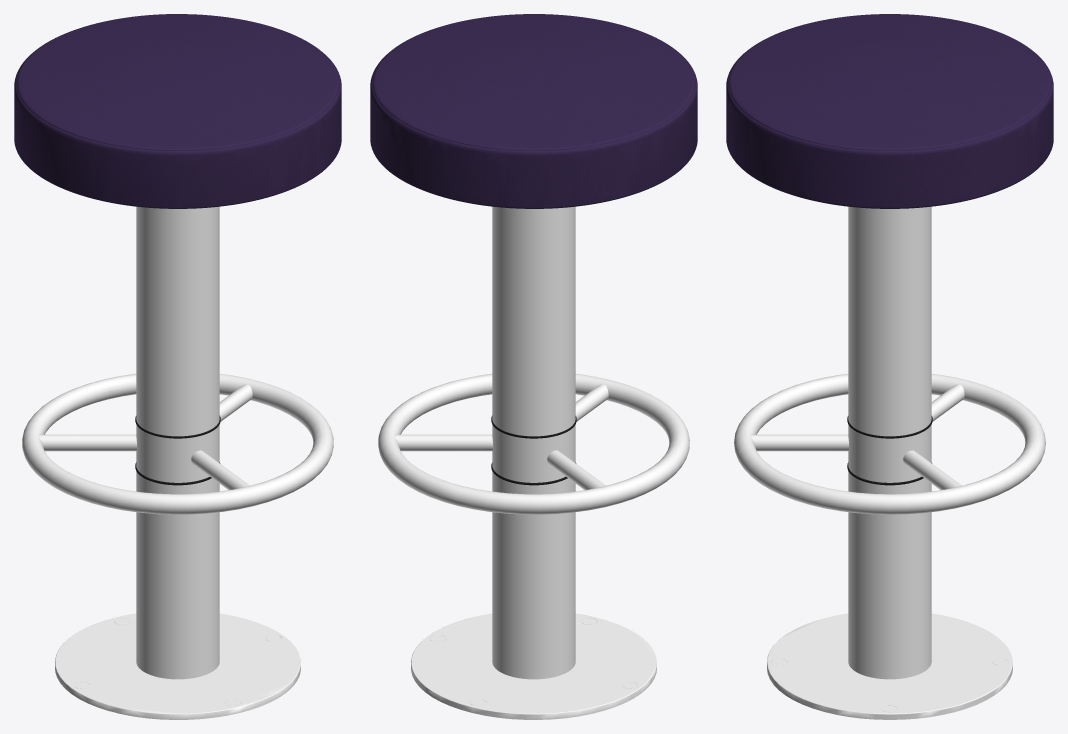
File: c114-teknofibra-17.glb
3 views of the same model, side by side, from view 1: azimuth 30°, elevation 25°; view 2: azimuth 150°, elevation 25°; view 3: azimuth 270°, elevation 25° (orthographic).
Visible parts, largest first — view 1: c114-base-piastra, c114-seduta-acciaio, c114-tubo-boccola-alta; view 2: c114-base-piastra, c114-seduta-acciaio, c114-tubo-boccola-alta; view 3: c114-base-piastra, c114-seduta-acciaio, c114-tubo-boccola-alta.
Boxes of the visible parts, x1,y1,x2,y2 form: c114-base-piastra: (22,206,333,719); c114-seduta-acciaio: (14,14,341,208); c114-tubo-boccola-alta: (135,415,220,485); c114-base-piastra: (378,206,689,719); c114-seduta-acciaio: (370,14,697,208); c114-tubo-boccola-alta: (491,415,576,485); c114-base-piastra: (734,206,1045,719); c114-seduta-acciaio: (726,14,1053,208); c114-tubo-boccola-alta: (847,416,932,485).
Bounding box in the file's own units: 0.3991 × 0.8009 × 0.3991.
Materials: 4 (1 with a texture image).
